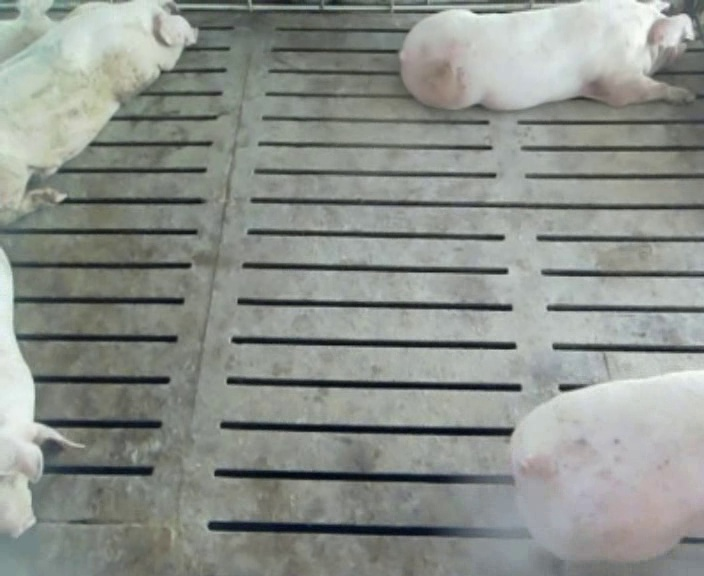pig: (0, 2, 196, 224), (511, 370, 703, 560), (400, 2, 693, 109), (0, 2, 54, 62)
